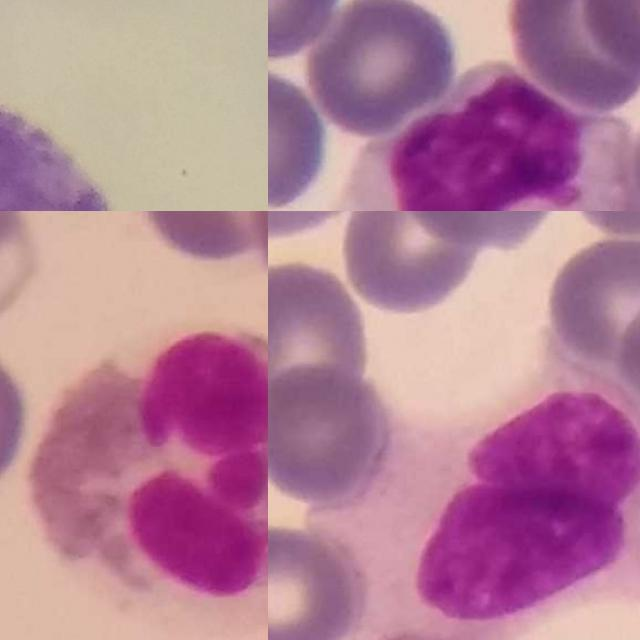Basophil: (0, 102, 113, 211)
Eosinophil: (29, 326, 268, 600)
Monocyte: (331, 370, 640, 640), (337, 63, 636, 211)
